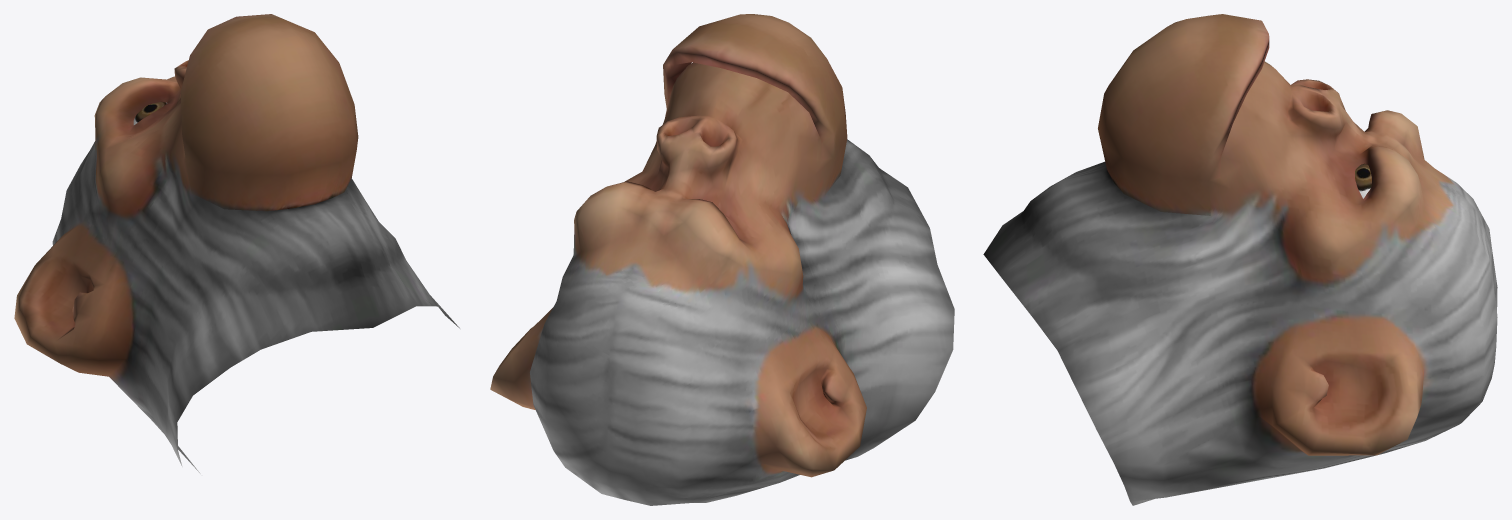
3 renders of one model, left to right at view 1: azimuth 30°, elevation 25°; view 2: azimuth 150°, elevation 25°; view 3: azimuth 270°, elevation 25°, orthographic. The views are drawn at different scales.
Parts seen in each view (by area): view 1: body0_model0_lod0_mesh0; view 2: body0_model0_lod0_mesh0; view 3: body0_model0_lod0_mesh0.
Boxes of the visible parts, x1,y1,x2,y2 form: body0_model0_lod0_mesh0: (14, 14, 459, 473); body0_model0_lod0_mesh0: (490, 14, 954, 505); body0_model0_lod0_mesh0: (983, 14, 1497, 505).
Bounding box in the file's own units: 11.64 × 15.77 × 15.56.
1 material, 1 textured.
